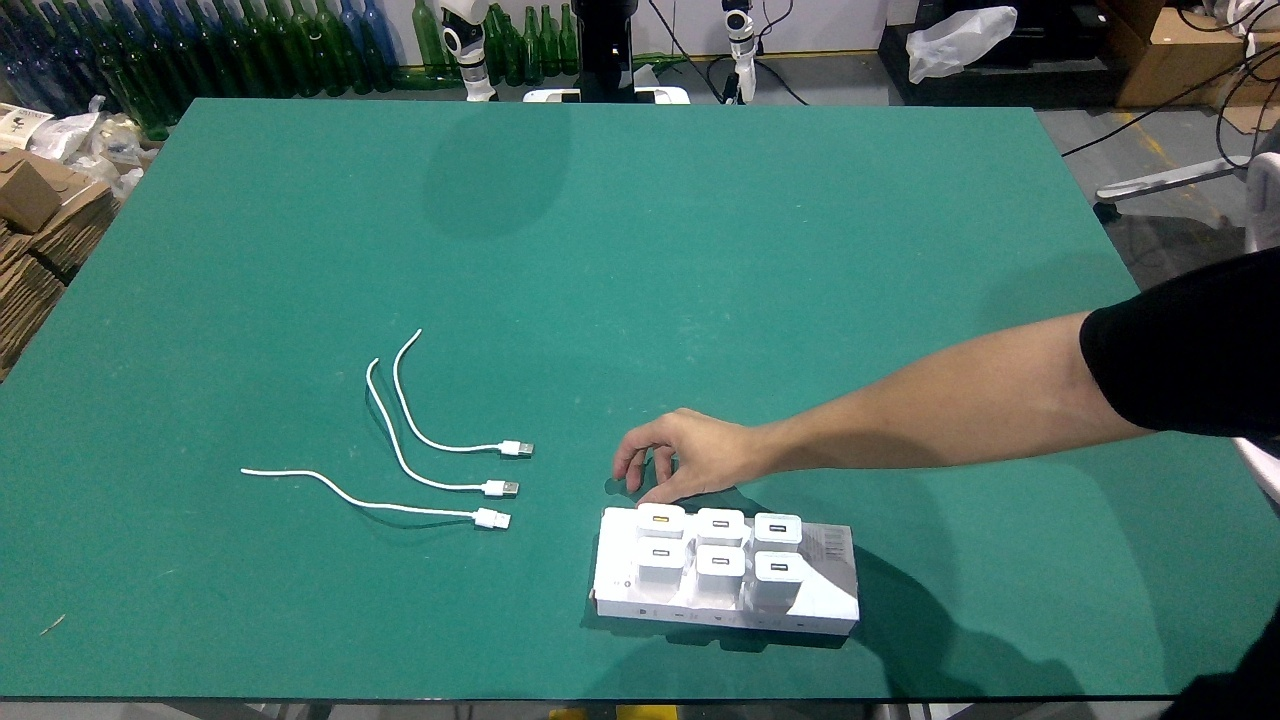usb_a_plug: (453, 501, 518, 533), (482, 437, 538, 459), (467, 477, 520, 497)
